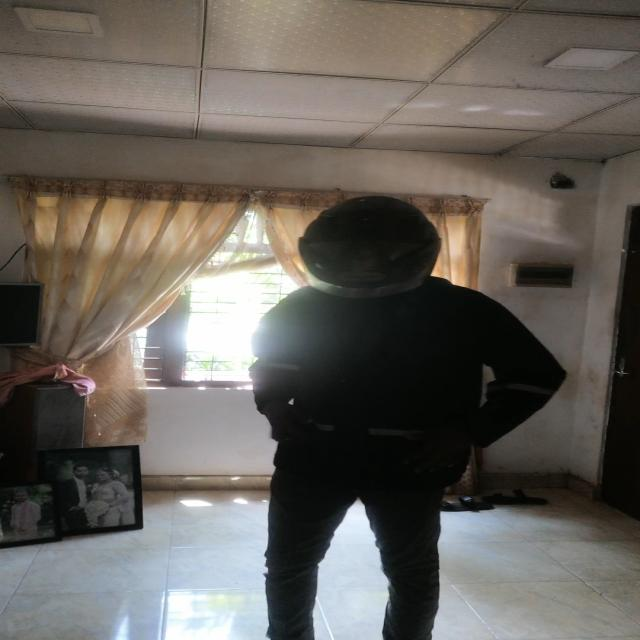Helmet_Wearer: (290, 196, 444, 316)
Jacket_Wearer: (238, 282, 570, 504)
Person: (241, 195, 569, 640)
